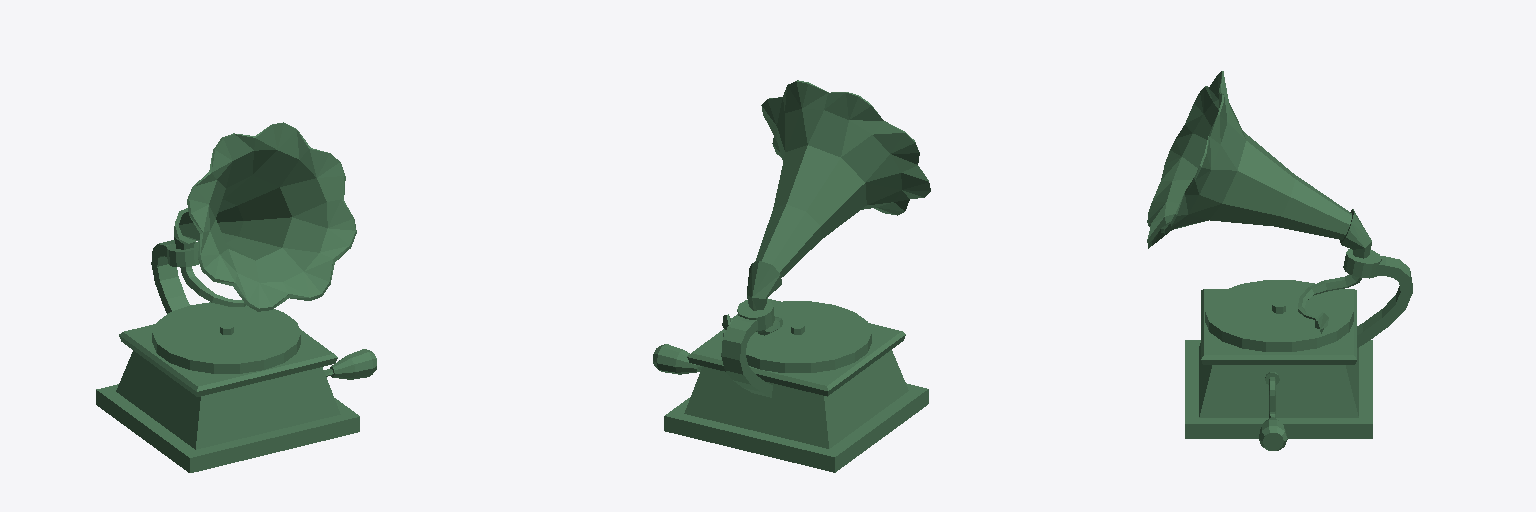
Rendered from Gramophone.obj.
The picture shows the model from 3 angles: view 1: azimuth 30°, elevation 25°; view 2: azimuth 150°, elevation 25°; view 3: azimuth 270°, elevation 25°; orthographic projection.
Visible parts, largest first — view 1: Gramophone; view 2: Gramophone; view 3: Gramophone.
Boxes of the visible parts, box(x1,y1,x2,y2) form: Gramophone: box(96, 122, 376, 472); Gramophone: box(653, 80, 930, 472); Gramophone: box(1147, 71, 1412, 450).
Size of the model in its own units: 80.73 by 106 by 81.77.